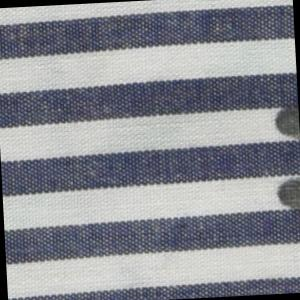Stain: (273, 99, 300, 149), (273, 173, 300, 217)
